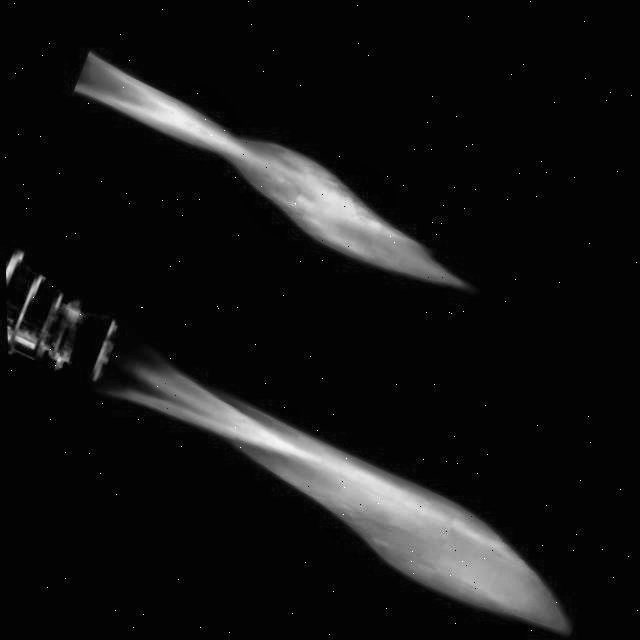Fire: (50, 301, 603, 640), (47, 3, 543, 348)
